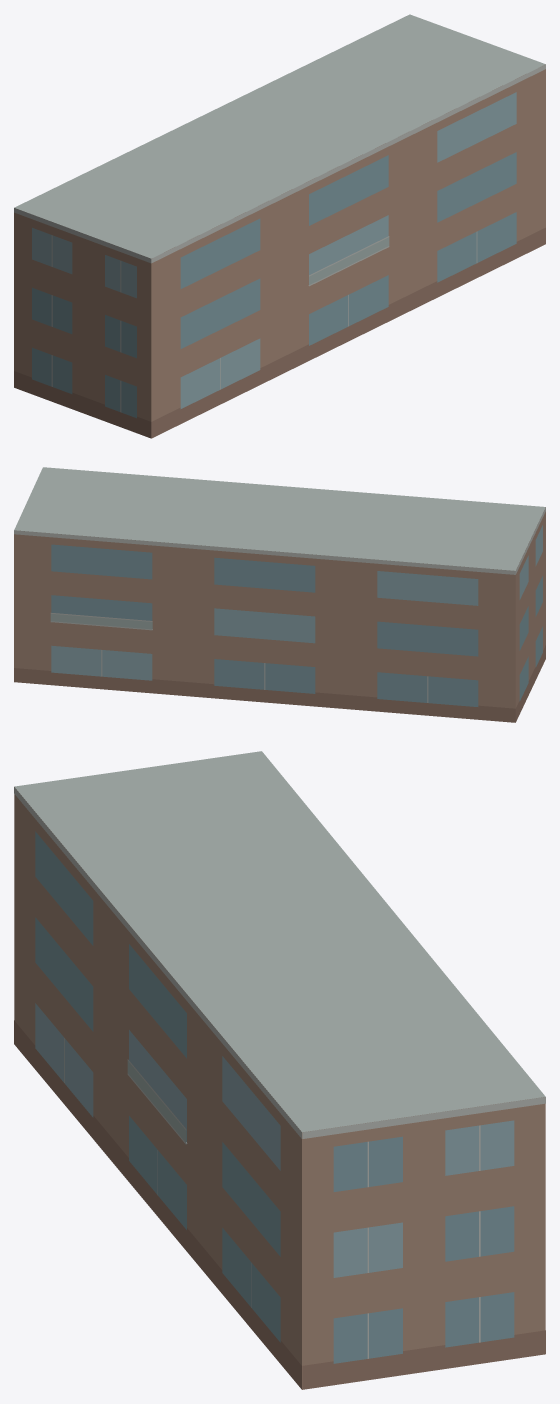
Rendered from survey-upis-32699833.glb.
3 renders of one model, top to bottom at view 1: azimuth 30°, elevation 25°; view 2: azimuth 150°, elevation 25°; view 3: azimuth 270°, elevation 25°, orthographic. The views are drawn at different scales.
Parts seen in each view (by area): view 1: survey-upis-32699833.tmp; view 2: survey-upis-32699833.tmp; view 3: survey-upis-32699833.tmp.
Part boxes in pixels (x1,y1,x2,y2): survey-upis-32699833.tmp: (14, 14, 545, 438); survey-upis-32699833.tmp: (14, 467, 545, 722); survey-upis-32699833.tmp: (14, 751, 545, 1389).
Bounding box in the file's own units: 29.06 × 9.15 × 17.13.
